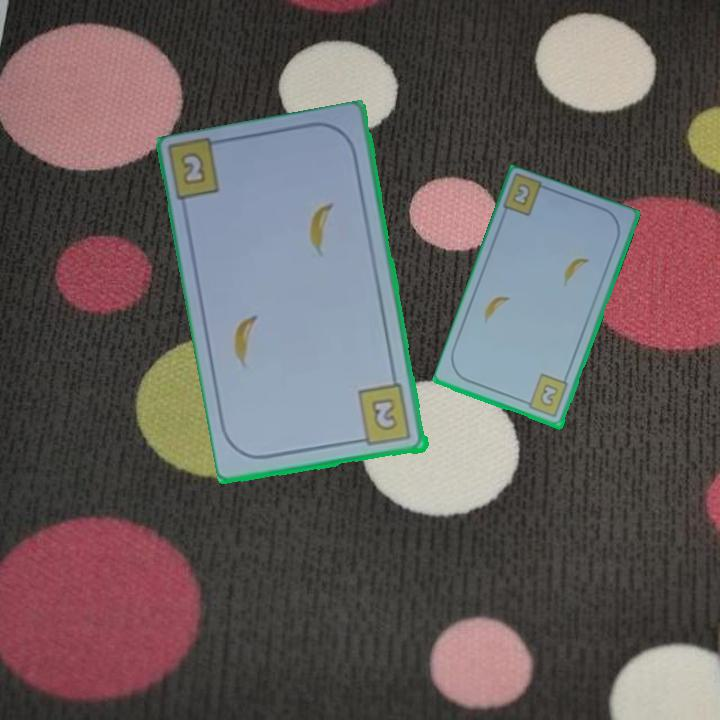2b: (353, 381, 415, 449), (520, 371, 571, 420), (180, 152, 206, 185), (509, 180, 534, 209)
